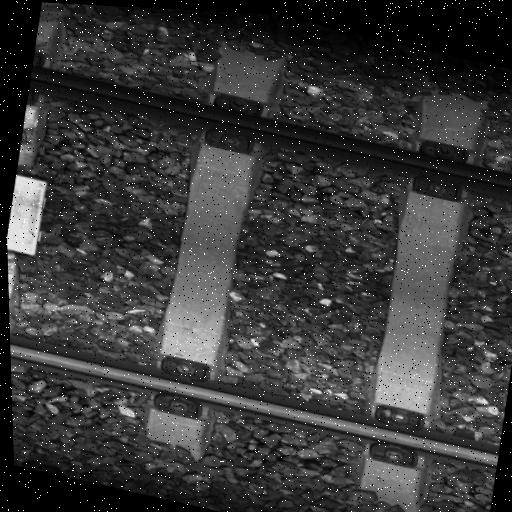sleeper: (117, 20, 304, 479), (325, 70, 506, 512)
